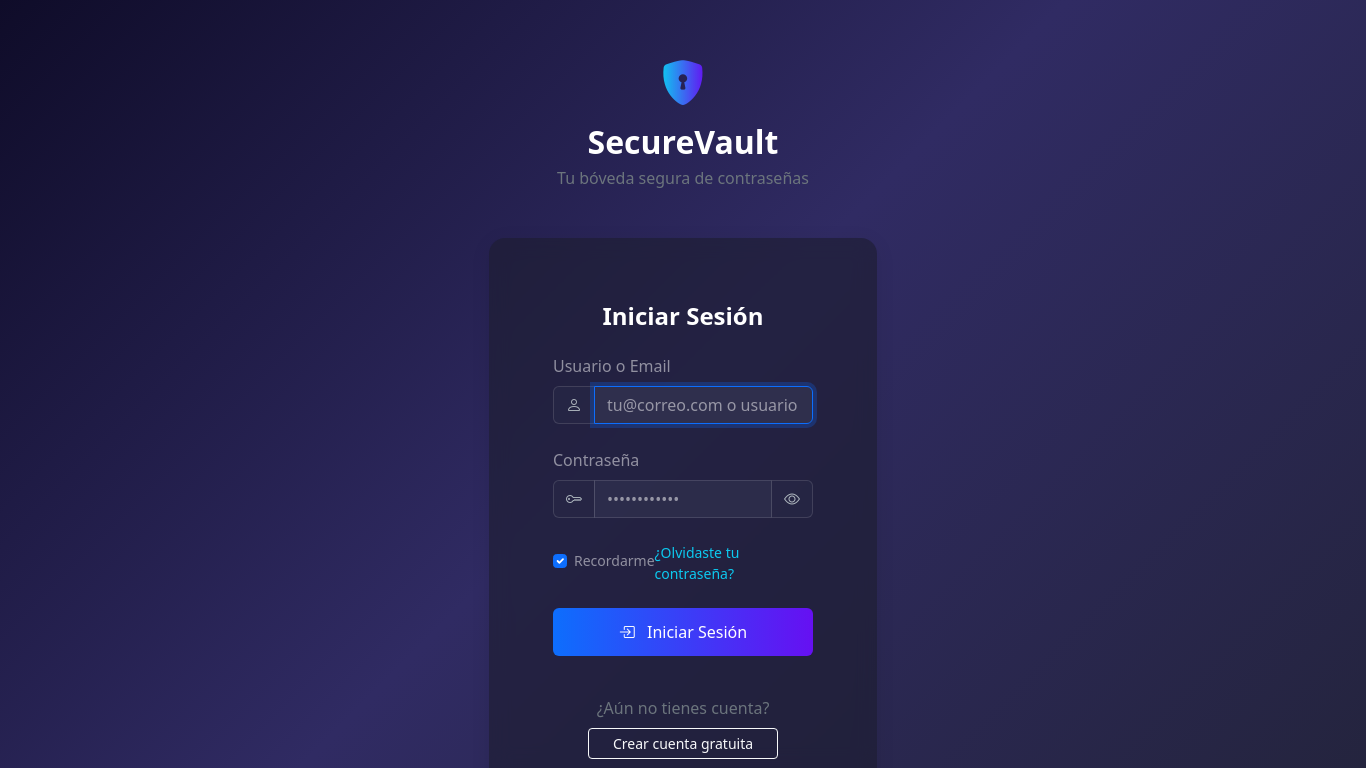
it: LoginPage › shows a validation error when credentials are empty
Click the button "Iniciar Sesión".
click(683, 632)  # box [553, 608, 813, 656]
(page scrolled)
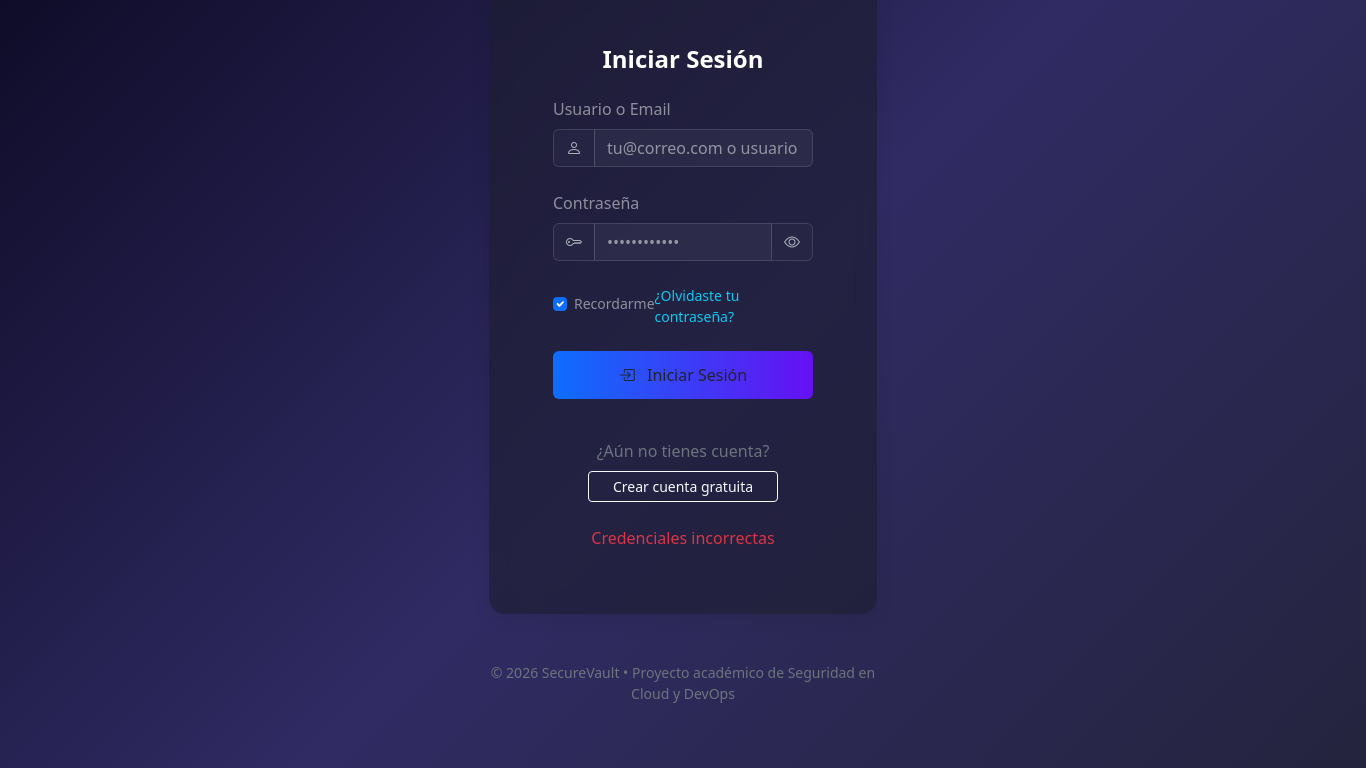
Expected: the text "Credenciales incorrectas" is shown, [591, 527, 775, 549]
